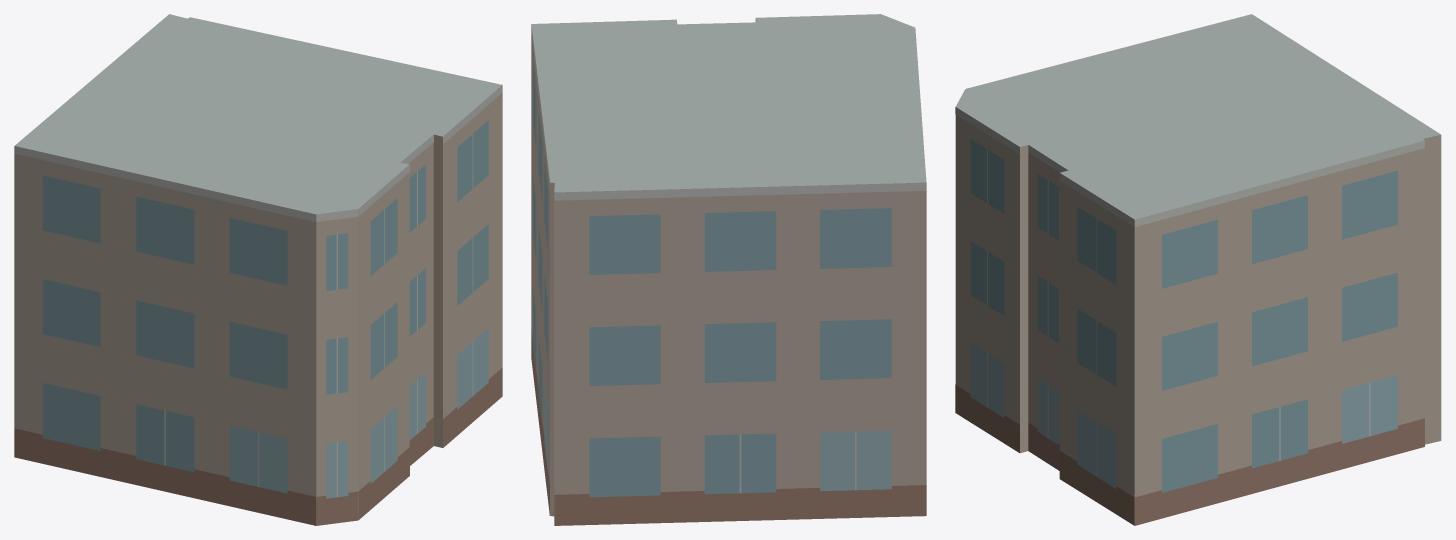
Rendered from survey-upis-32493442.glb.
3 renders of one model, left to right at view 1: azimuth 30°, elevation 25°; view 2: azimuth 150°, elevation 25°; view 3: azimuth 270°, elevation 25°, orthographic. The views are drawn at different scales.
Visible parts, largest first — view 1: survey-upis-32493442.tmp; view 2: survey-upis-32493442.tmp; view 3: survey-upis-32493442.tmp.
Part boxes in pixels (bbox=[...]): survey-upis-32493442.tmp: bbox=[14, 14, 502, 525]; survey-upis-32493442.tmp: bbox=[531, 14, 926, 525]; survey-upis-32493442.tmp: bbox=[955, 14, 1441, 525].
Size of the model in its own units: 14.27 by 9.9 by 14.24.
